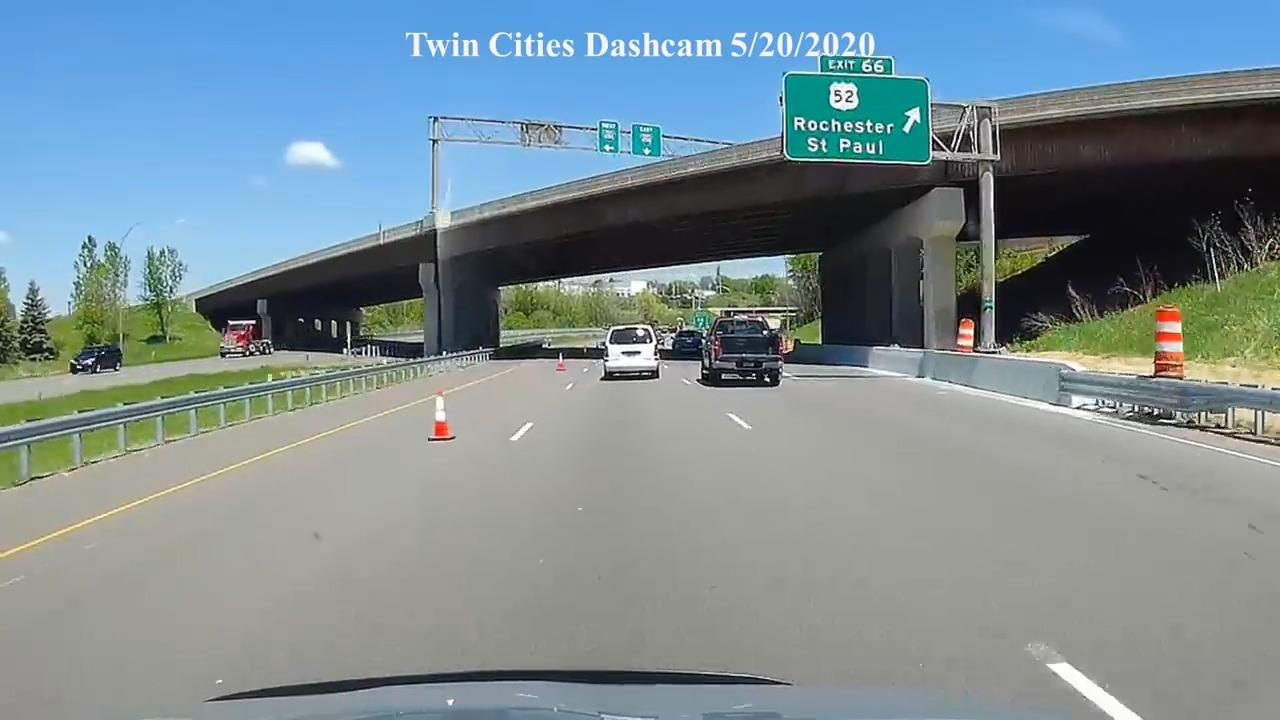car: (600, 324, 661, 380), (70, 344, 123, 375), (672, 331, 703, 358)
traffic cone: (1151, 304, 1186, 380), (427, 392, 456, 442), (956, 318, 975, 353), (555, 350, 569, 374)
